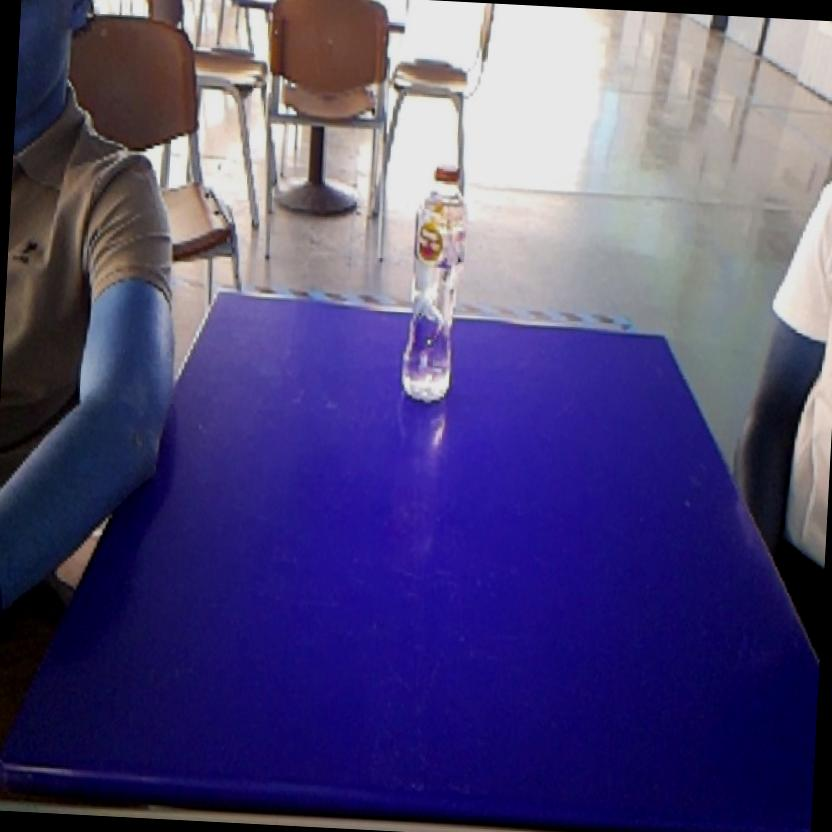good: (393, 152, 476, 418)
